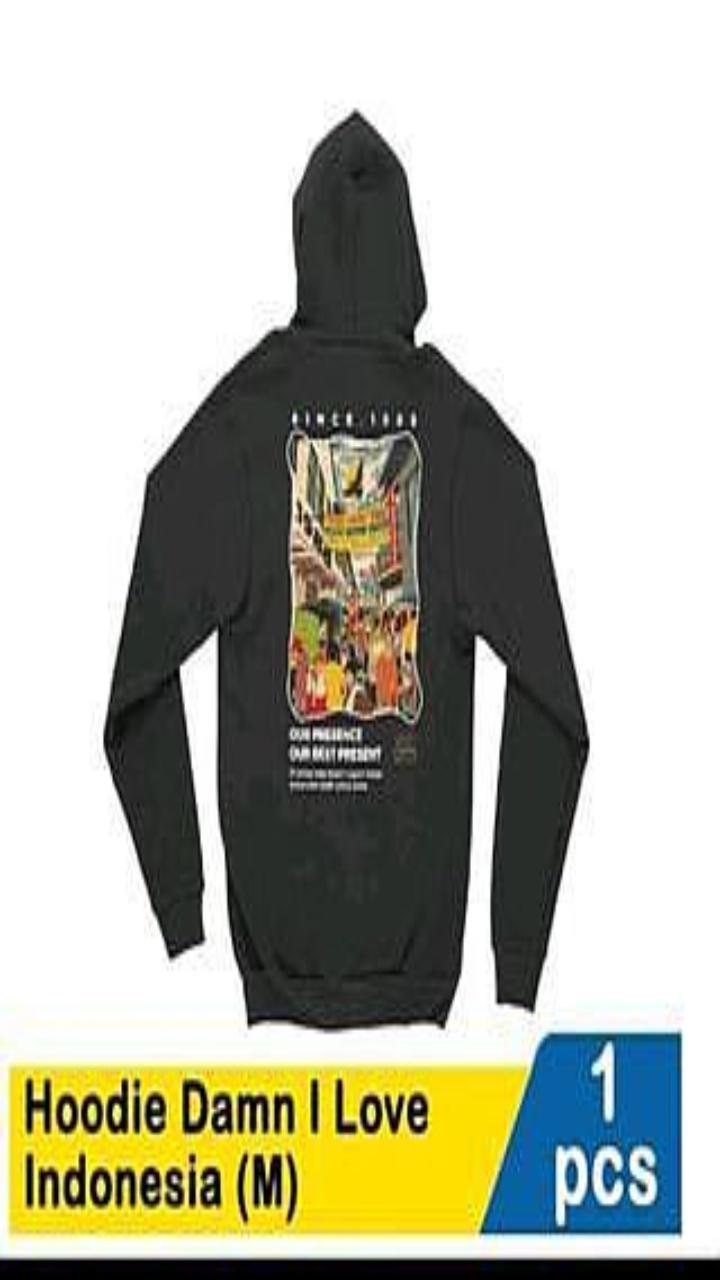Hoodie: (105, 114, 587, 1026)
